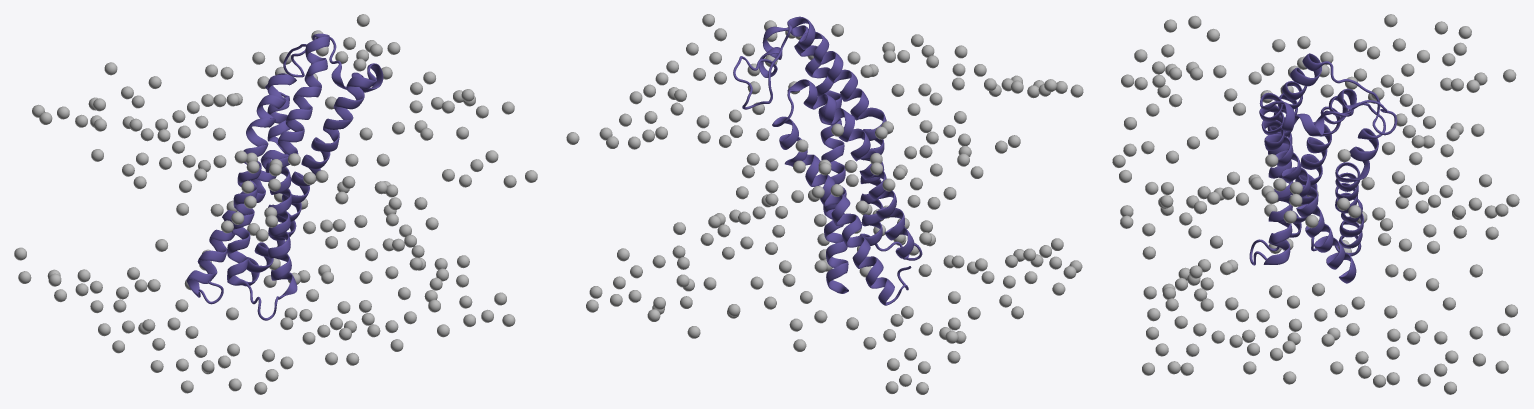
Rendered from monomer.glb.
3 views of the same model, side by side, from view 1: azimuth 30°, elevation 25°; view 2: azimuth 150°, elevation 25°; view 3: azimuth 270°, elevation 25° (orthographic). The views are drawn at different scales.
Visible parts, largest first — view 1: Monomer; view 2: Monomer; view 3: Monomer.
Boxes of the visible parts, x1,y1,x2,y2 form: Monomer: [14, 14, 537, 394]; Monomer: [566, 14, 1083, 394]; Monomer: [1112, 14, 1519, 394].
Size of the model in its own units: 3.13 by 2.12 by 2.79.
